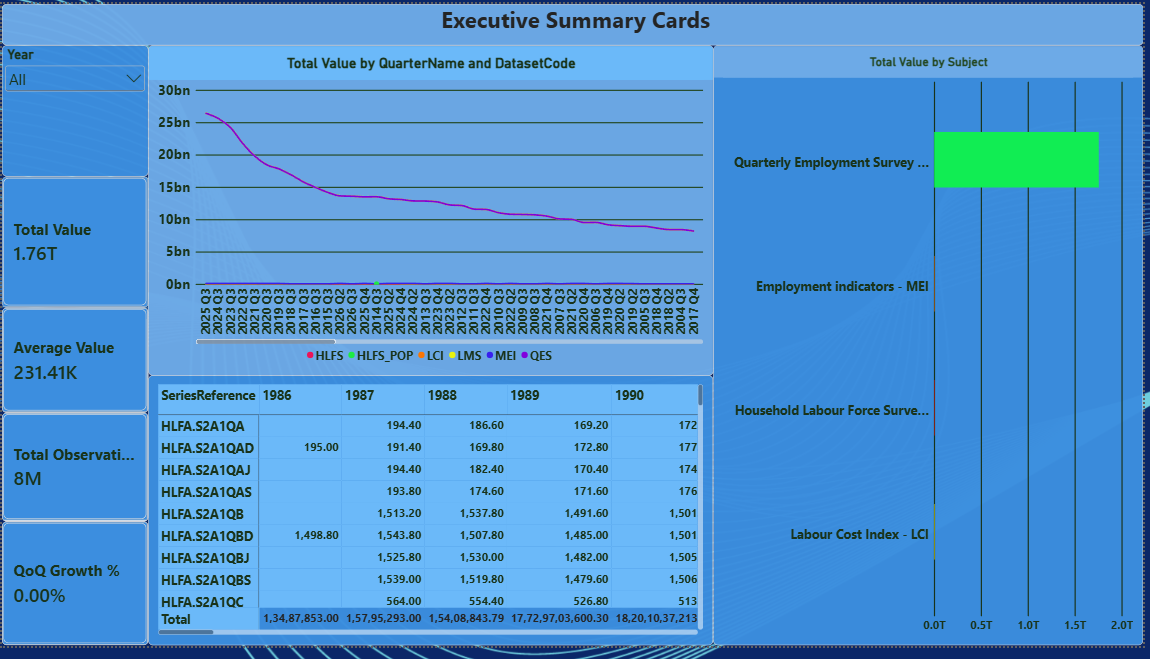

What the dashboard file says about the page in this screenshot:
{"tool":"powerbi","page":{"name":"Executive Summary ","canvas":[1920,1080],"ordinal":0},"visuals":[{"type":"cardVisual","fields":{"Data":["_Measures.Total Value"]},"box":[0,290.3,246.1,220.9],"z":0},{"type":"cardVisual","fields":{"Data":["_Measures.Average Value"]},"box":[0,511.1,246.1,176.7],"z":1},{"type":"cardVisual","fields":{"Data":["_Measures.Total Observations"]},"box":[0,687.8,246.1,183],"z":2},{"type":"cardVisual","fields":{"Data":["_Measures.QoQ Growth %"]},"box":[0,870.8,246.1,208.2],"z":3},{"type":"slicer","fields":{"Values":["vw_DimDate.Year"]},"box":[0,69.4,246.1,220.9],"z":4},{"type":"lineChart","fields":{"Category":["vw_DimDate.QuarterName"],"Series":["vw_DimDataset.DatasetCode"],"Y":["_Measures.Total Value"]},"box":[246.1,69.4,950.9,555.7],"z":5},{"type":"clusteredBarChart","fields":{"Category":["vw_DimGroup.Subject"],"Y":["_Measures.Total Value"]},"box":[1196.8,69.4,723.6,1009.6],"z":6},{"type":"pivotTable","fields":{"Columns":["vw_DimDate.Year"],"Rows":["vw_DimSeries.SeriesReference"],"Values":["_Measures.Total Value"]},"box":[246.1,624.7,950.7,454.3],"z":7},{"type":"textbox","box":[0,0,1920.4,69.4],"z":10}]}

Visuals, with their boxes in screenshot pixels (x1, y1, x2, y2), scaled from the page's 1920x1080 canvas onto the 1150x659 screenshot:
cardVisual - _Measures.Total Value: [0,177,147,312]
cardVisual - _Measures.Average Value: [0,312,147,420]
cardVisual - _Measures.Total Observations: [0,420,147,531]
cardVisual - _Measures.QoQ Growth %: [0,531,147,658]
slicer - vw_DimDate.Year: [0,42,147,177]
lineChart - vw_DimDate.QuarterName x vw_DimDataset.DatasetCode: [147,42,717,381]
clusteredBarChart - vw_DimGroup.Subject x _Measures.Total Value: [717,42,1149,658]
pivotTable - vw_DimDate.Year x vw_DimSeries.SeriesReference: [147,381,717,658]
textbox: [0,0,1149,42]
